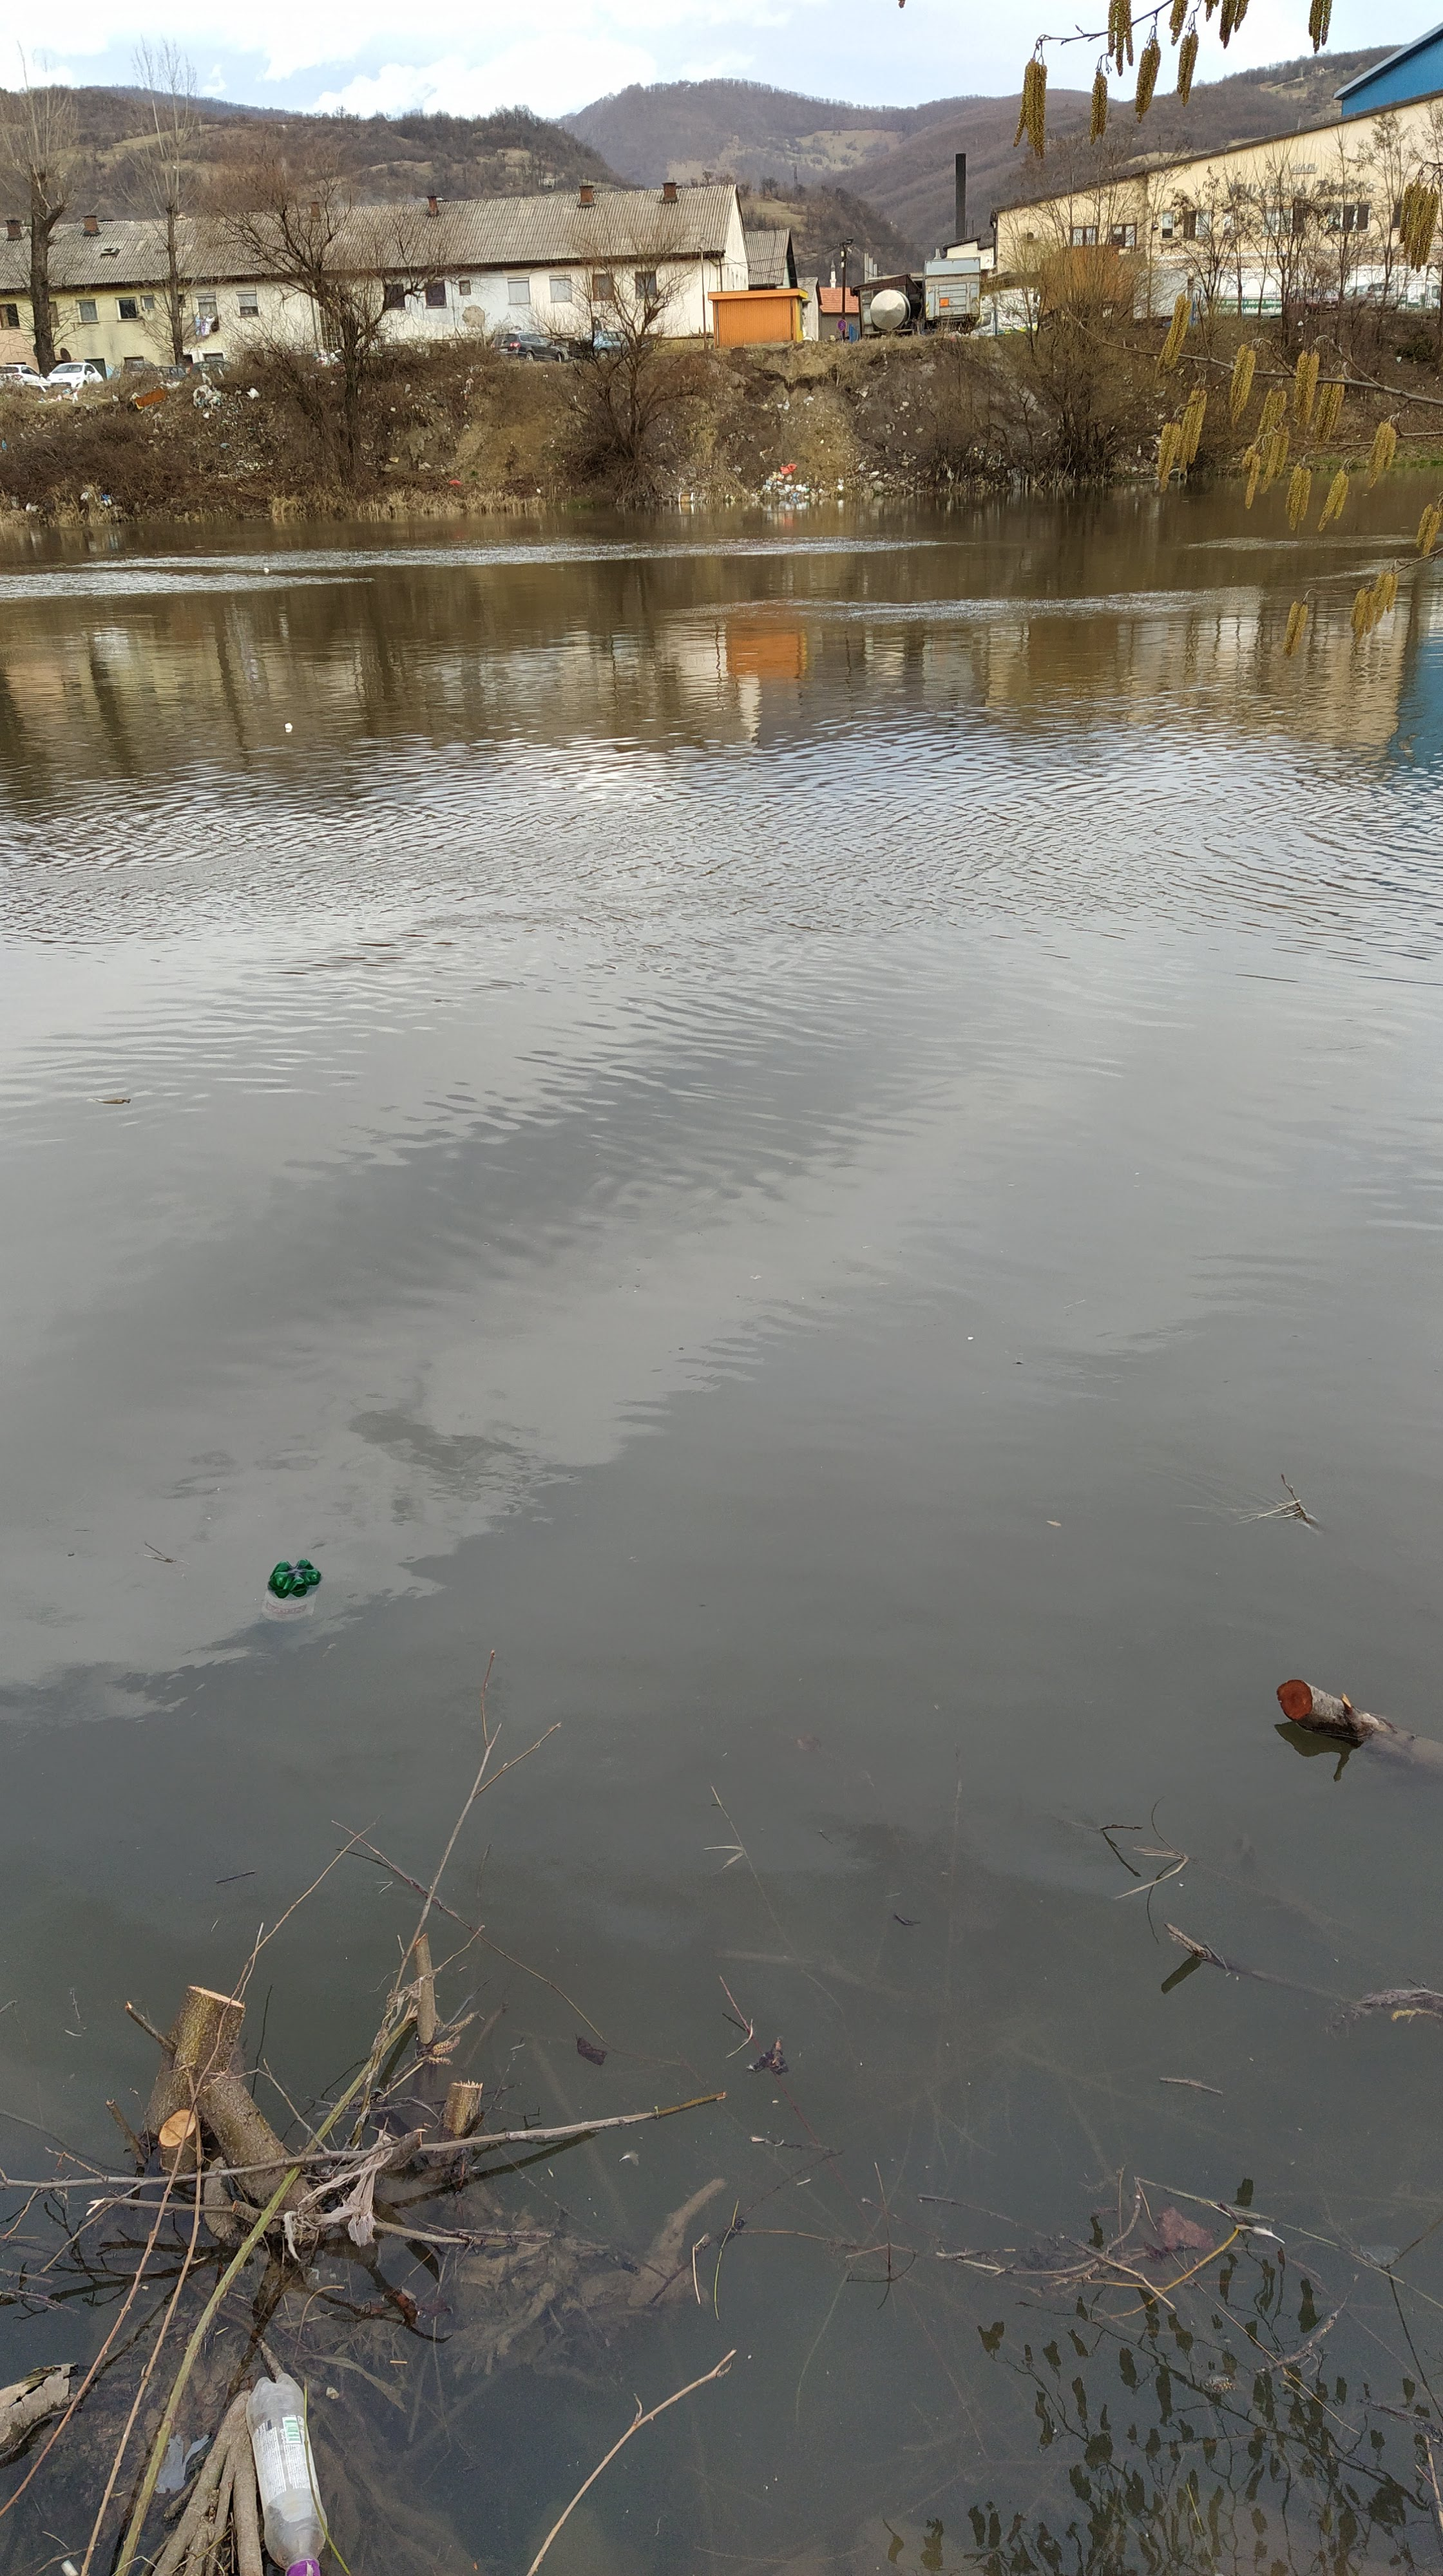Plastic Bottle: (246, 2373, 328, 2576), (267, 1559, 320, 1598), (99, 1097, 131, 1104)
